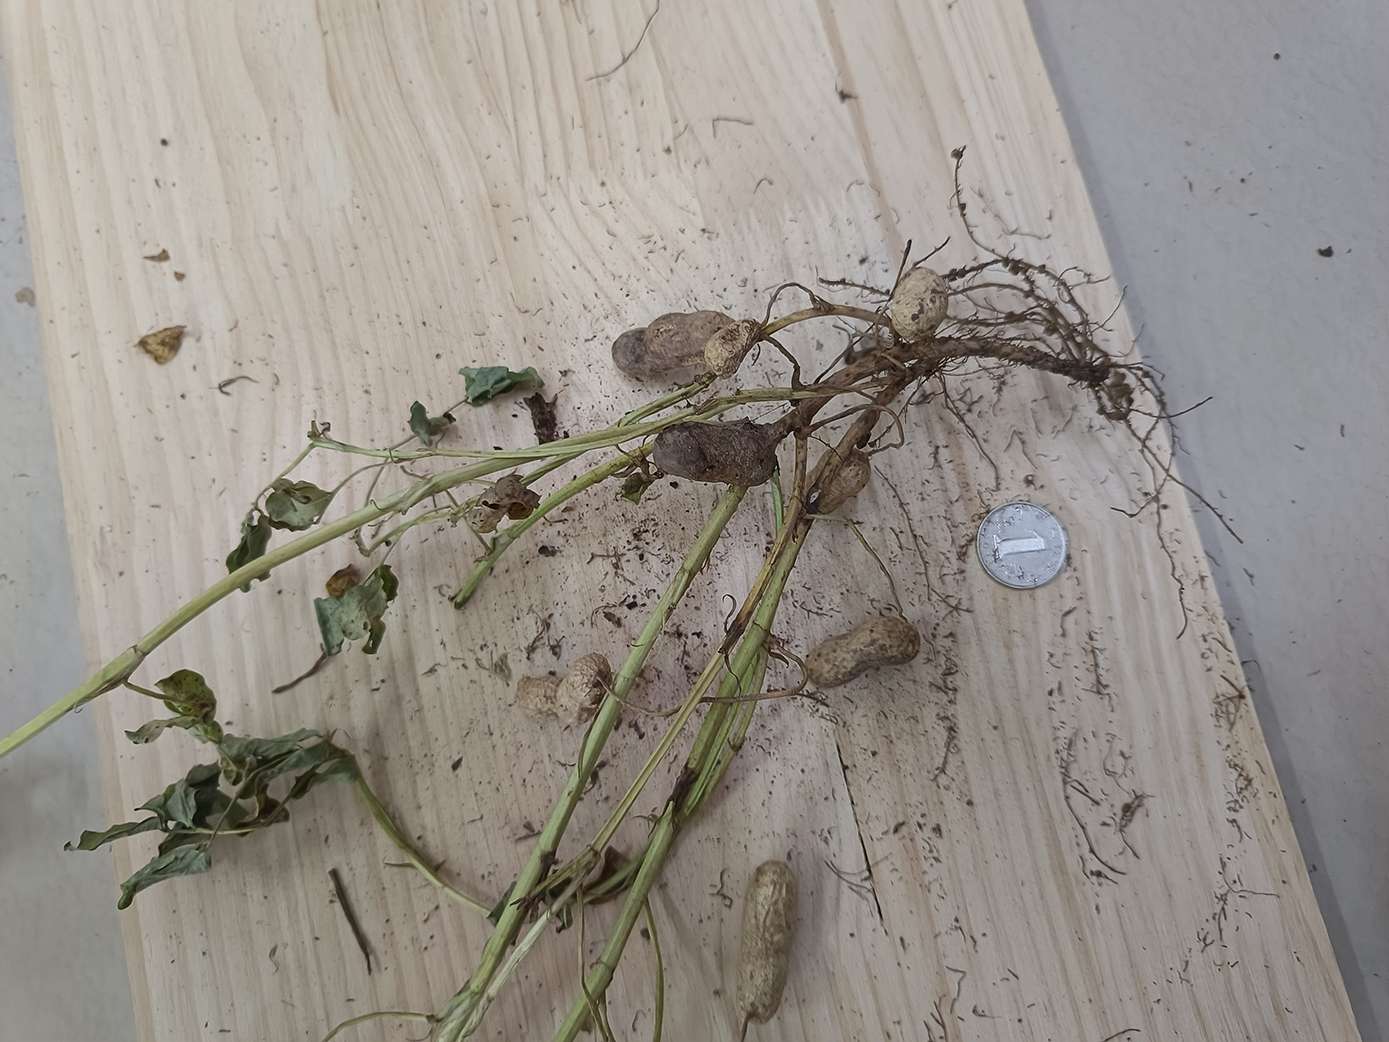h: (734, 860, 797, 1024), (806, 617, 921, 686), (516, 653, 609, 729), (805, 449, 872, 516), (888, 267, 947, 341), (708, 319, 757, 378)
l: (653, 421, 778, 488), (611, 310, 727, 373)
